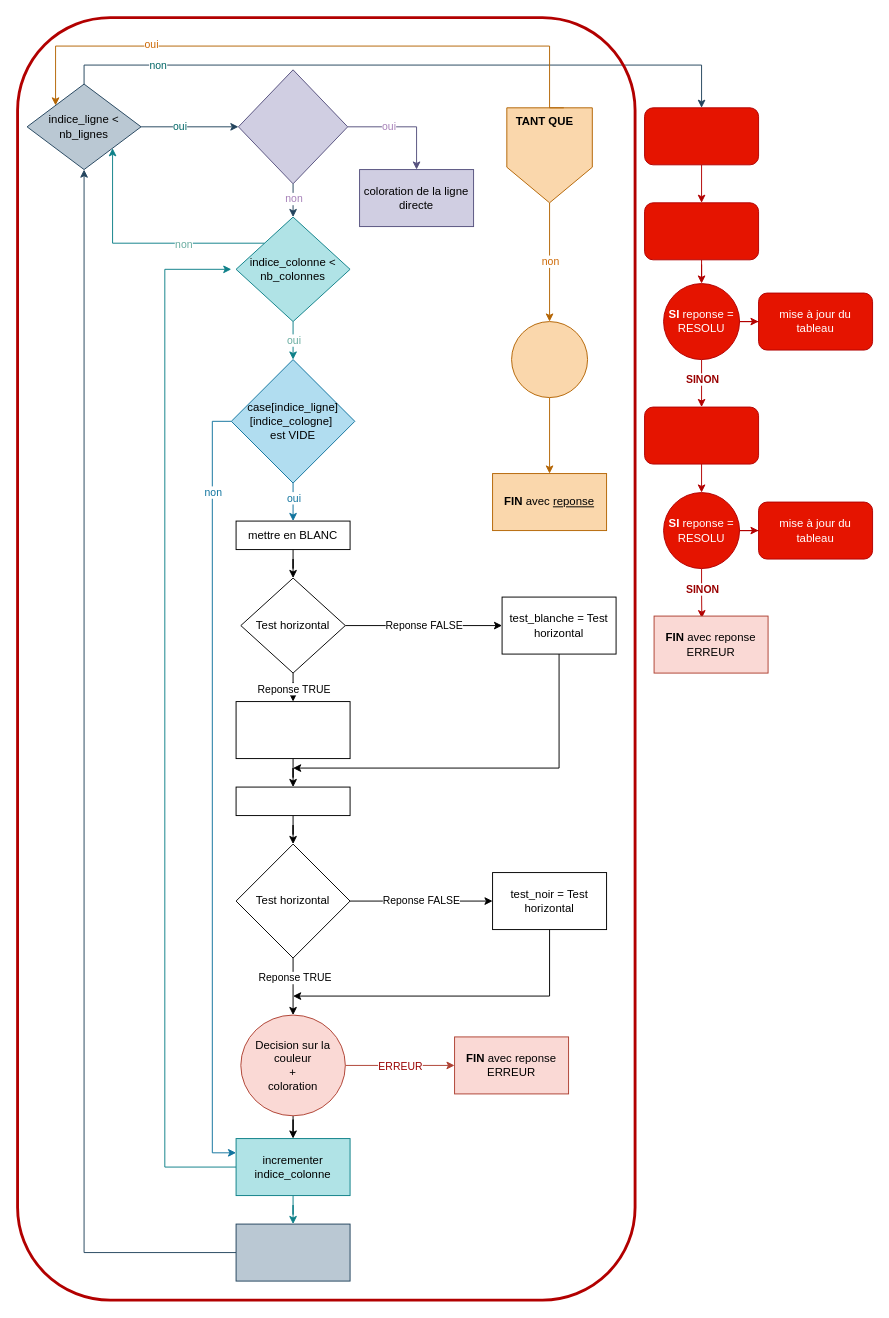
The diagram is 889 pixels wide and 1318 high, and some of its shapes have lost their labels. The shapes that lost their labels are listed below. From the top down, each one's box as (x1, y1, x2, y2) in pixels, then its label:
(238, 69, 348, 184): longeur_ligne = nb_noires + nb_blanches
(644, 107, 759, 165): Trouver prochaine case VIDE
(506, 107, 592, 203): coloration des cases depuis dernière itération
(644, 202, 759, 260): Coloration arbitraire en BLANC
(511, 321, 588, 398): reponse = INCOMPLET ou RESOLU
(644, 406, 759, 464): Coloration arbitraire en NOIR
(235, 701, 350, 759): test_blanche = Test vertical
(235, 786, 350, 816): mettre en NOIR
(235, 1223, 350, 1281): incrementer indice_ligne
